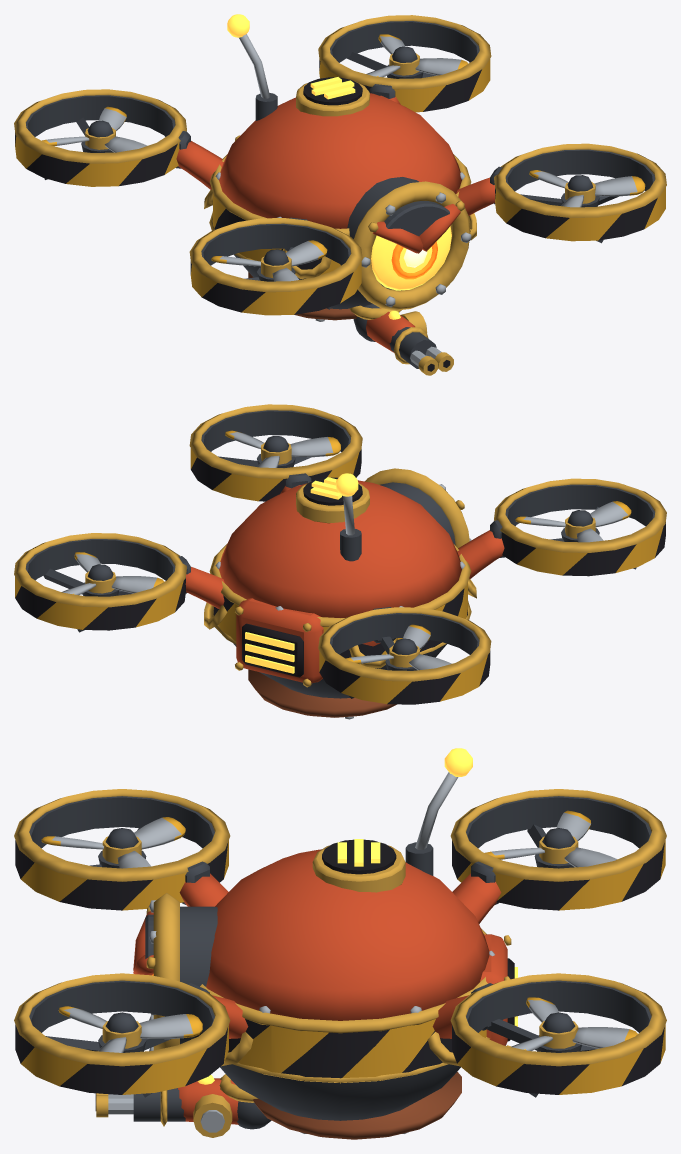
The model's file is enemy_drone.glb.
The picture shows the model from 3 angles, top to bottom: view 1: azimuth 30°, elevation 25°; view 2: azimuth 150°, elevation 25°; view 3: azimuth 270°, elevation 25°; orthographic projection. The views are drawn at different scales.
Parts seen in each view (by area): view 1: Body, Gun, Eye, Rotor_0, Rotor_3, Rotor_1, Rotor_2; view 2: Body, Rotor_0, Rotor_3, Rotor_1, Rotor_2; view 3: Body, Gun, Rotor_0, Rotor_3, Rotor_1, Rotor_2.
Part boxes in pixels (x1,y1,x2,y2): Body: (14, 14, 666, 321); Gun: (353, 304, 453, 375); Eye: (371, 226, 451, 290); Rotor_0: (529, 170, 645, 207); Rotor_3: (211, 240, 327, 281); Rotor_1: (366, 34, 468, 77); Rotor_2: (42, 106, 147, 152); Body: (14, 404, 666, 719); Rotor_0: (225, 430, 340, 467); Rotor_3: (515, 501, 631, 542); Rotor_1: (61, 552, 164, 595); Rotor_2: (345, 624, 451, 670); Body: (14, 748, 666, 1139); Gun: (95, 1075, 271, 1137); Rotor_0: (58, 1006, 202, 1052); Rotor_3: (41, 817, 185, 868); Rotor_1: (511, 997, 637, 1051); Rotor_2: (485, 810, 617, 867).
Bounding box in the file's own units: 1.41 × 0.825 × 1.41.
